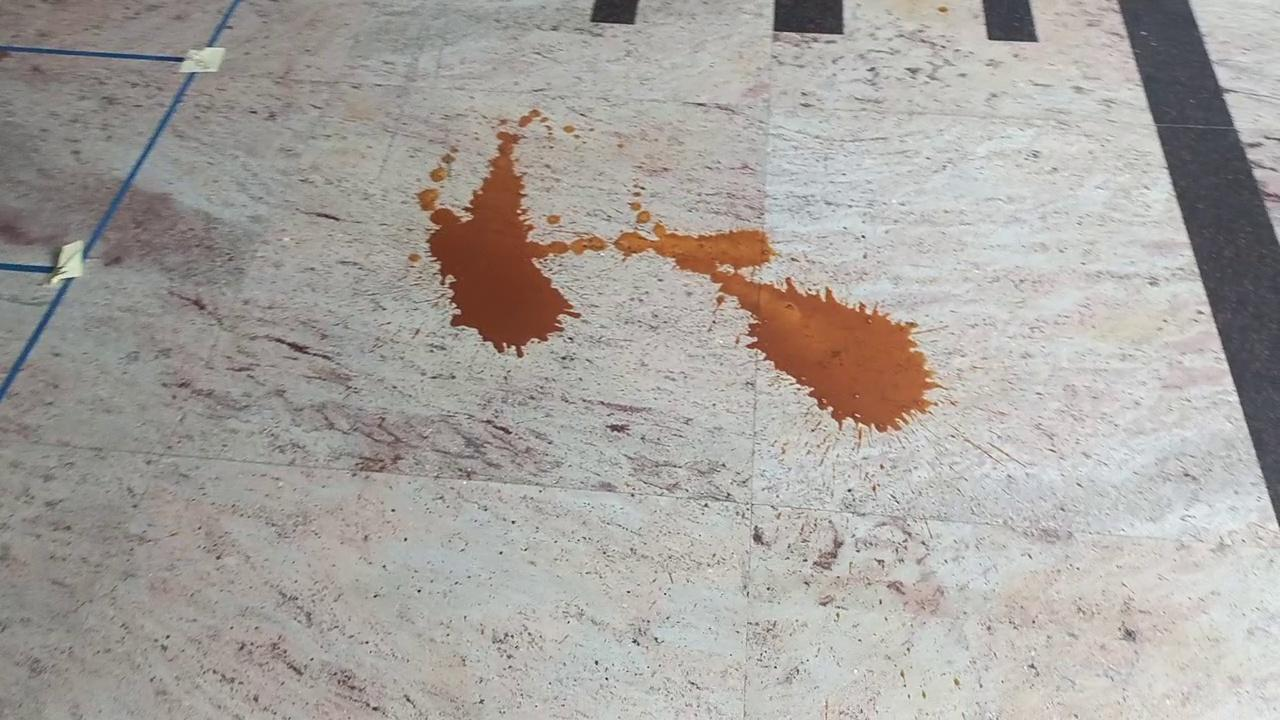dirty_floor: (423, 104, 934, 436)
